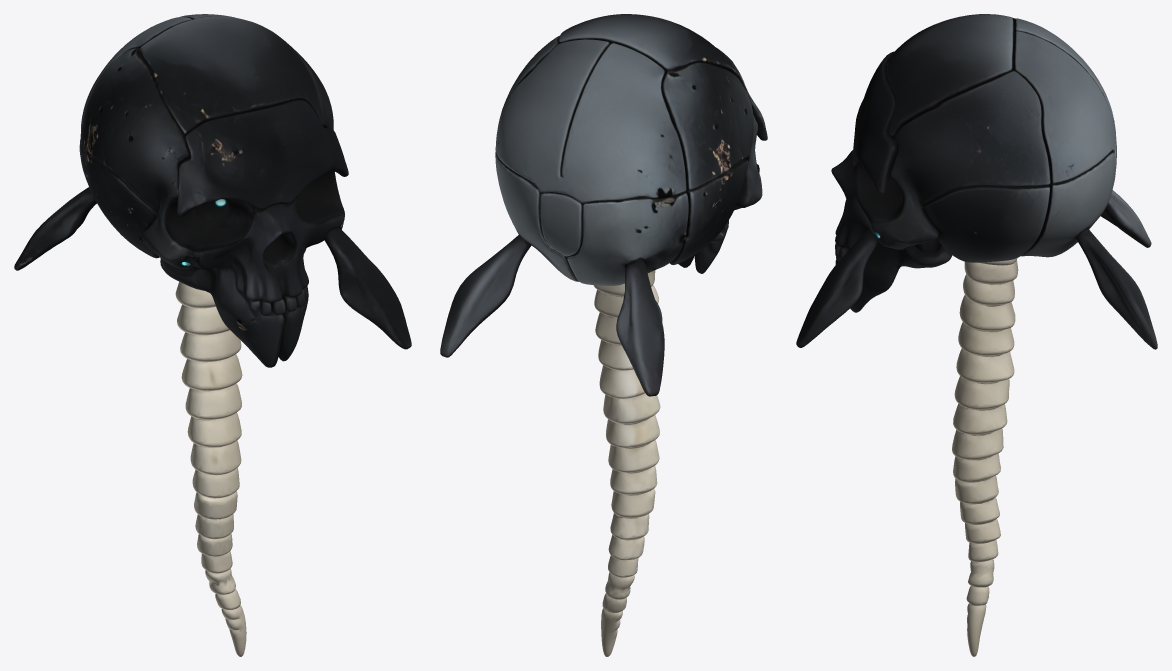
The model's file is enemy_neural_sentinel.glb.
3 views of the same model, side by side, from view 1: azimuth 30°, elevation 25°; view 2: azimuth 150°, elevation 25°; view 3: azimuth 270°, elevation 25° (orthographic). The views are drawn at different scales.
Visible parts, largest first — view 1: model; view 2: model; view 3: model.
Part boxes in pixels (x1,y1,x2,y2): model: (14,14,411,656); model: (440,14,767,656); model: (796,14,1157,656).
Bounding box in the file's own units: 0.7008 × 1.9 × 1.01.
Materials: 1 (1 with a texture image).
